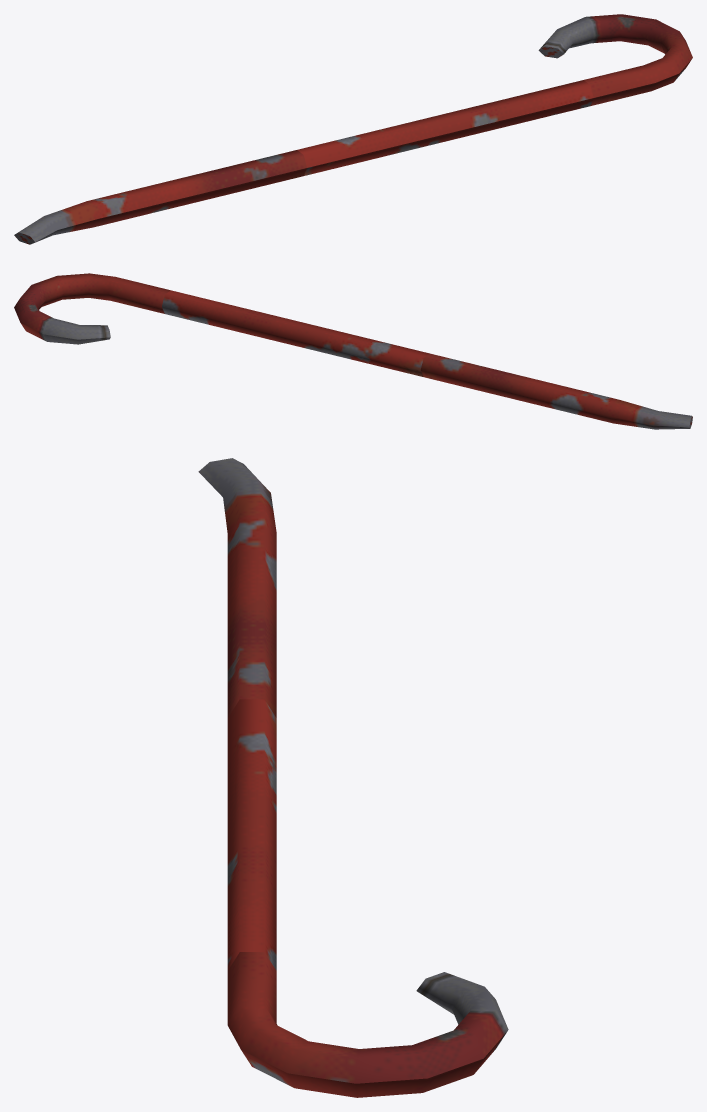
The model's file is crowbar.obj.
The picture shows the model from 3 angles, top to bottom: view 1: azimuth 30°, elevation 25°; view 2: azimuth 150°, elevation 25°; view 3: azimuth 270°, elevation 25°; orthographic projection. The views are drawn at different scales.
Visible parts, largest first — view 1: crowbar; view 2: crowbar; view 3: crowbar.
Part boxes in pixels (bbox=[...]): crowbar: bbox=[14, 14, 692, 244]; crowbar: bbox=[14, 273, 692, 429]; crowbar: bbox=[198, 458, 508, 1097].
Size of the model in its own units: 0.5678 by 0.0165 by 0.1201.
Materials: 1 (1 with a texture image).
